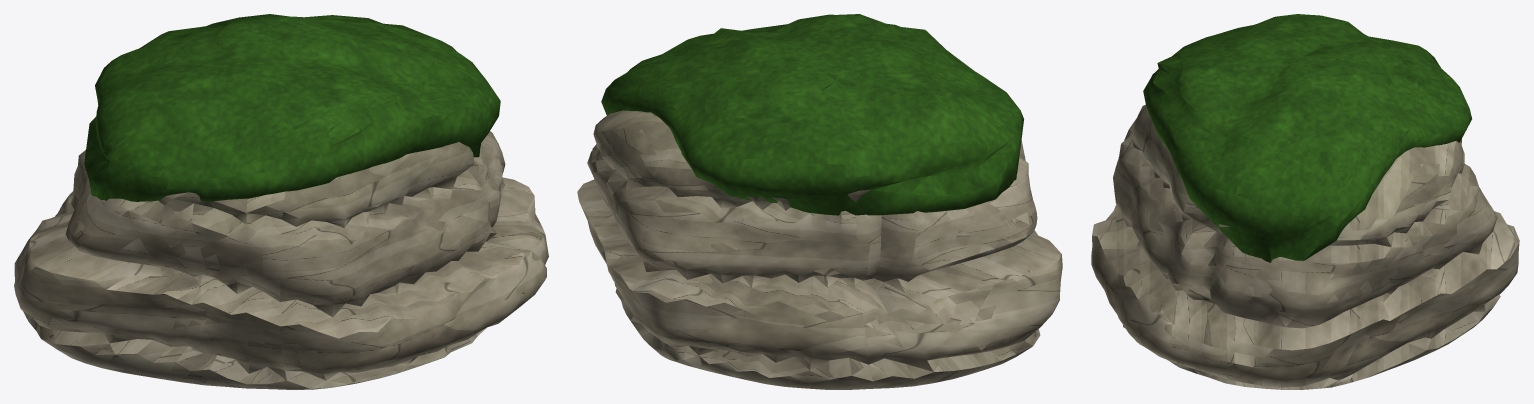
3 renders of one model, left to right at view 1: azimuth 30°, elevation 25°; view 2: azimuth 150°, elevation 25°; view 3: azimuth 270°, elevation 25°, orthographic. The views are drawn at different scales.
Parts seen in each view (by area): view 1: Mesh_KarstBoulderBody, Mesh_VelvetMossCap; view 2: Mesh_KarstBoulderBody, Mesh_VelvetMossCap; view 3: Mesh_KarstBoulderBody, Mesh_VelvetMossCap.
Boxes of the visible parts, box(x1,y1,x2,y2) form: Mesh_KarstBoulderBody: box(14, 131, 548, 389); Mesh_VelvetMossCap: box(84, 14, 500, 201); Mesh_KarstBoulderBody: box(577, 110, 1062, 389); Mesh_VelvetMossCap: box(601, 14, 1023, 215); Mesh_KarstBoulderBody: box(1091, 104, 1519, 389); Mesh_VelvetMossCap: box(1143, 14, 1471, 262).
Size of the model in its own units: 3.6 by 2 by 2.9.
2 materials, 2 textured.
